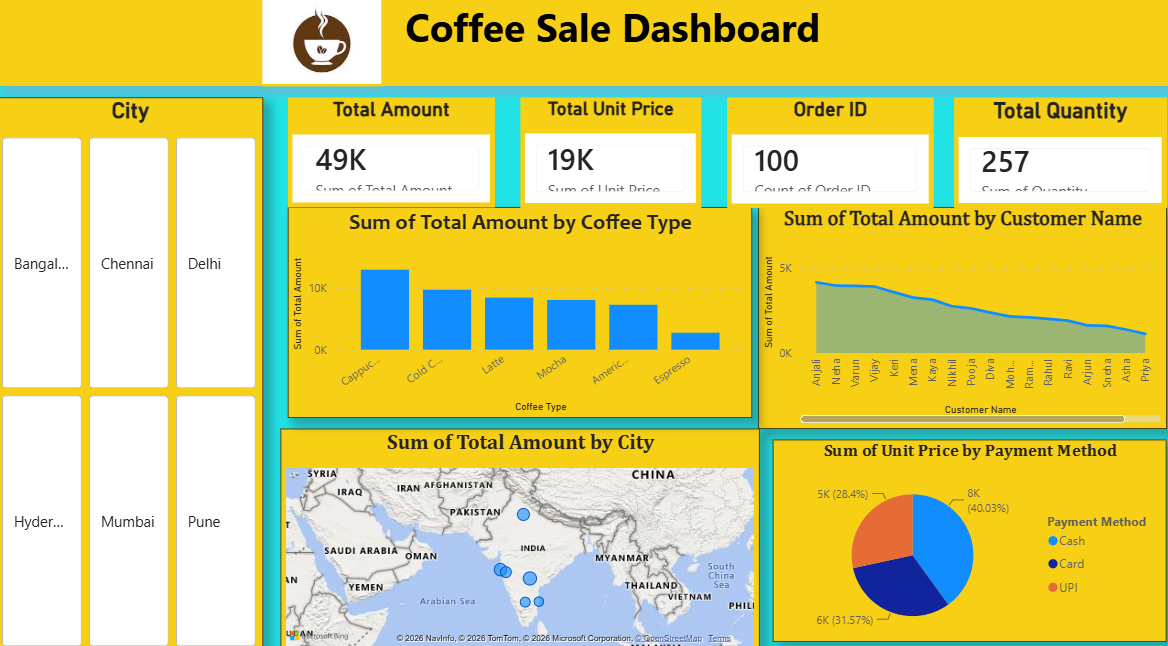

The dashboard page shown, as its layout file describes it:
{"tool":"powerbi","page":{"name":"Page 1","canvas":[1280,720],"ordinal":0},"visuals":[{"type":"textbox","box":[0,0,1279.8,99.7],"z":0},{"type":"textbox","box":[0,0,1279.8,99.7],"z":1000},{"type":"areaChart","fields":{"Category":["Sheet.Customer Name"],"Y":["Sum(Sheet.Total Amount)"]},"box":[832.6,232.6,446.5,241.9],"z":2000},{"type":"map","fields":{"Category":["Sheet.City"],"Size":["Sum(Sheet.Total Amount)"]},"box":[309.3,474.4,523.5,247.2],"z":3000},{"type":"pieChart","fields":{"Category":["Sheet.Payment Method"],"Y":["Sum(Sheet.Unit Price)"]},"box":[848.8,486,430.2,220.9],"z":4000},{"type":"advancedSlicerVisual","fields":{"Values":["Sheet.City"]},"box":[0,111.6,290.7,607],"z":5000},{"type":"columnChart","fields":{"Y":["Sum(Sheet.Total Amount)"],"Category":["Sheet.Coffee Type"]},"box":[318.6,232.6,507,230.2],"z":6000},{"type":"cardVisual","title":"Total Unit Price","fields":{"Data":["Sum(Sheet.Unit Price)"]},"box":[546.5,111.6,197.7,120.9],"z":7000},{"type":"image","box":[290.7,0,130.2,100],"z":8000},{"type":"cardVisual","title":"Total Quantity","fields":{"Data":["Sum(Sheet.Quantity)"]},"box":[1004.7,111.6,232.6,120.9],"z":9000},{"type":"cardVisual","title":"Order ID","fields":{"Data":["CountNonNull(Sheet.Order ID)"]},"box":[760.5,111.6,225.6,120.9],"z":10000},{"type":"cardVisual","title":"Total Amount","fields":{"Data":["Sum(Sheet.Total Amount)"]},"box":[307,111.6,225.6,120.9],"z":11000}]}

Visuals, with their boxes in screenshot pixels (x1, y1, x2, y2), scaled from the page's 1280x720 canvas onto the 1168x646 screenshot:
textbox: x1=0 y1=0 x2=1167 y2=89
textbox: x1=0 y1=0 x2=1167 y2=89
areaChart - Sheet.Customer Name x Sum(Sheet.Total Amount): x1=760 y1=209 x2=1167 y2=426
map - Sheet.City x Sum(Sheet.Total Amount): x1=282 y1=426 x2=760 y2=645
pieChart - Sheet.Payment Method x Sum(Sheet.Unit Price): x1=775 y1=436 x2=1167 y2=634
advancedSlicerVisual - Sheet.City: x1=0 y1=100 x2=265 y2=645
columnChart - Sum(Sheet.Total Amount) x Sheet.Coffee Type: x1=291 y1=209 x2=753 y2=415
"Total Unit Price" cardVisual: x1=499 y1=100 x2=679 y2=209
image: x1=265 y1=0 x2=384 y2=90
"Total Quantity" cardVisual: x1=917 y1=100 x2=1129 y2=209
"Order ID" cardVisual: x1=694 y1=100 x2=900 y2=209
"Total Amount" cardVisual: x1=280 y1=100 x2=486 y2=209
